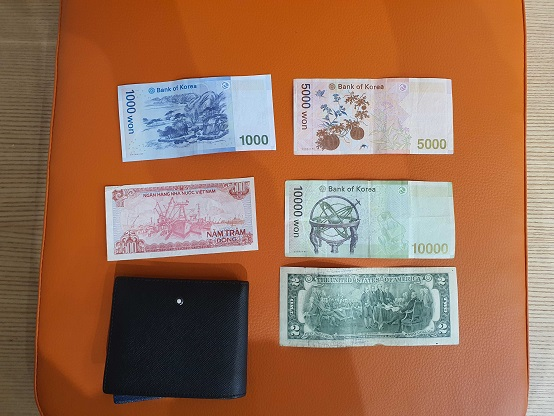10000won: (283, 179, 456, 261)
1000won: (117, 73, 277, 163)
2dollar: (279, 265, 461, 349)
5000won: (294, 76, 453, 154)
500vnd: (104, 176, 259, 261)
